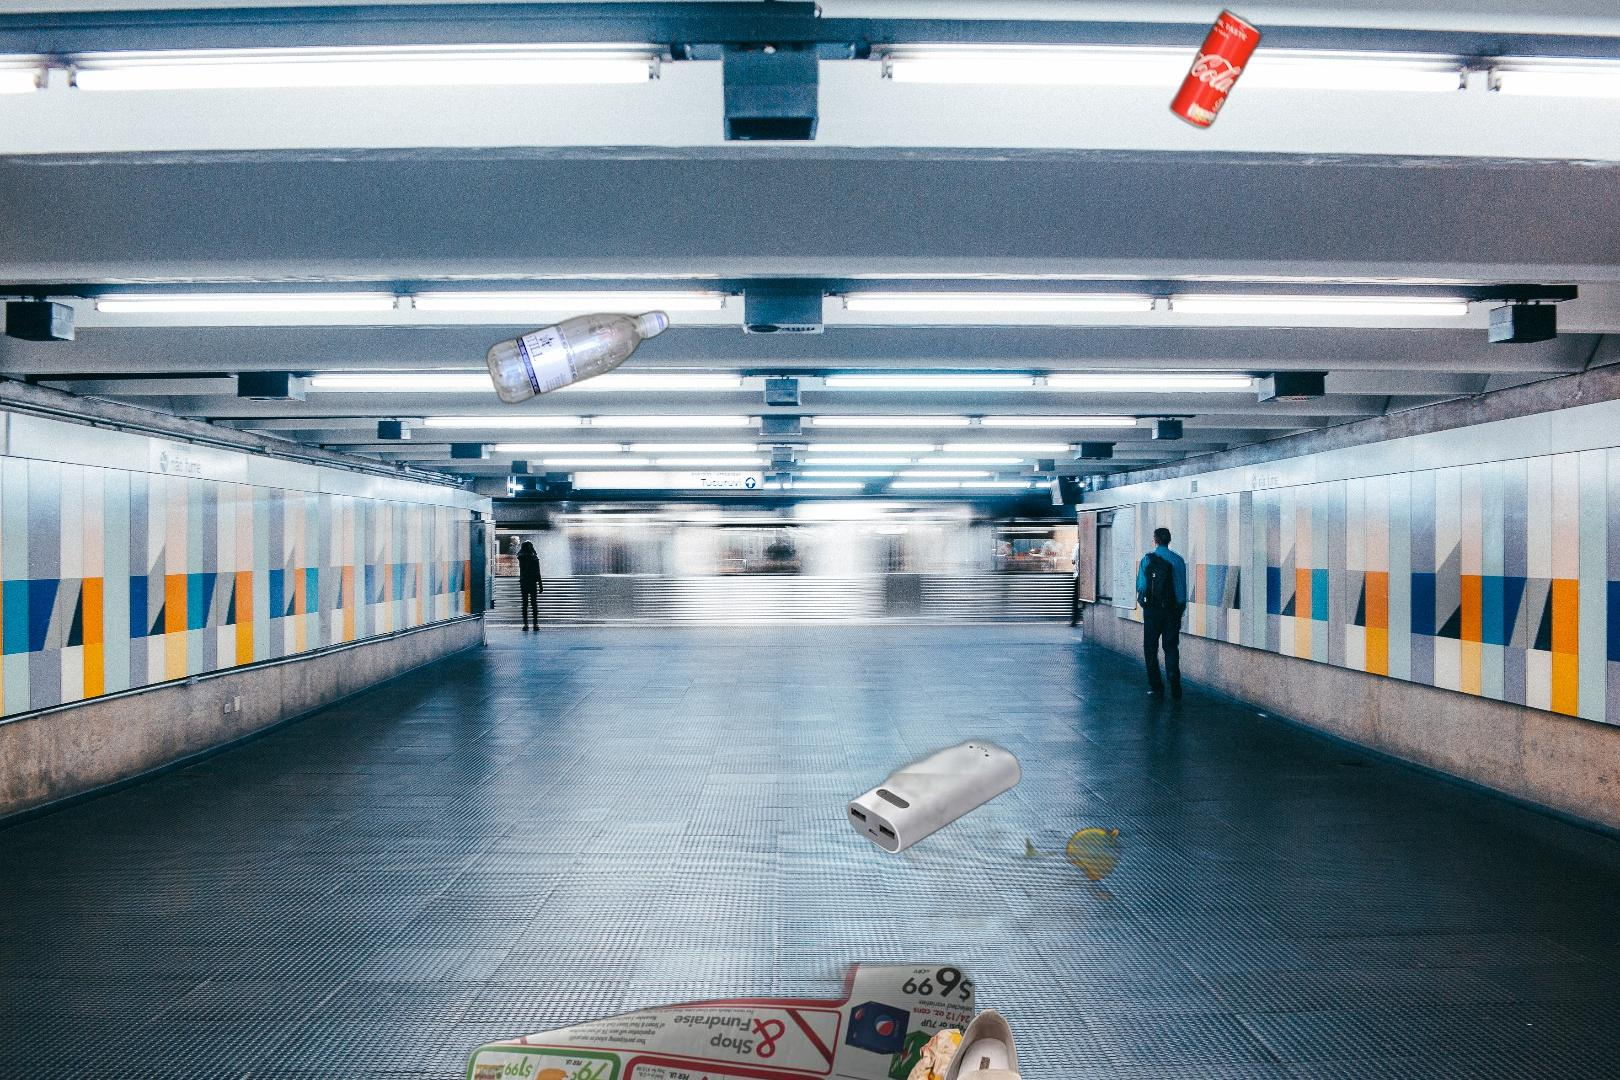battery: (844, 683, 1045, 857)
biological: (864, 773, 1184, 931)
metal-cans: (1166, 1, 1266, 134)
paper: (463, 962, 975, 1080)
paper-bag: (904, 1025, 1020, 1080)
plastic-bottles: (325, 304, 838, 768)
shoes: (937, 1006, 1032, 1080)
